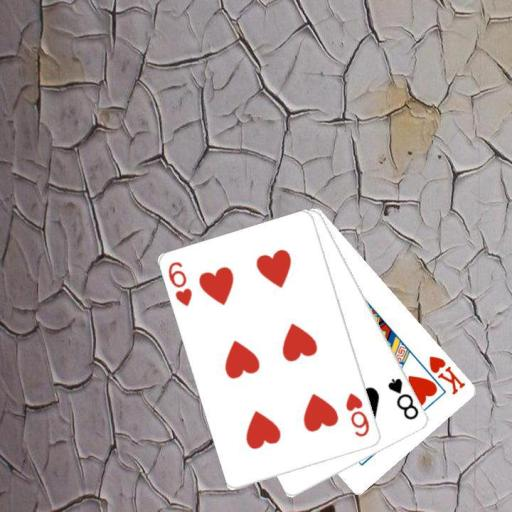6H: (165, 258, 194, 308), (343, 390, 371, 439)
8S: (385, 375, 421, 422)
KH: (426, 353, 467, 397)
